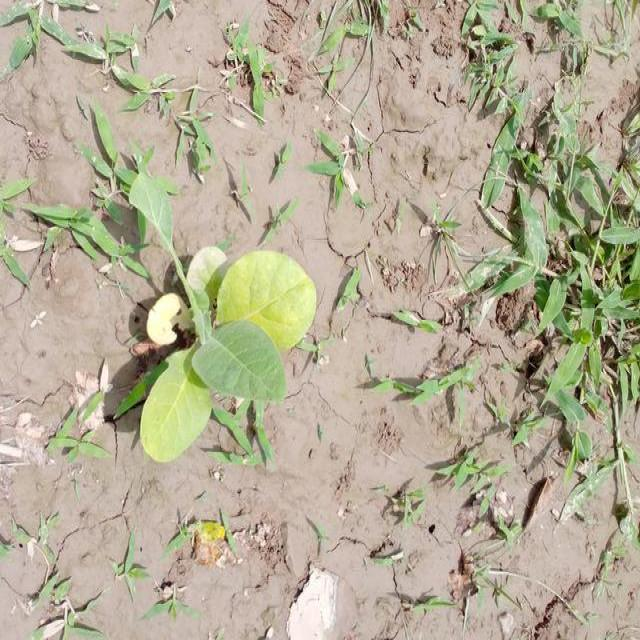crop: (124, 176, 312, 460)
